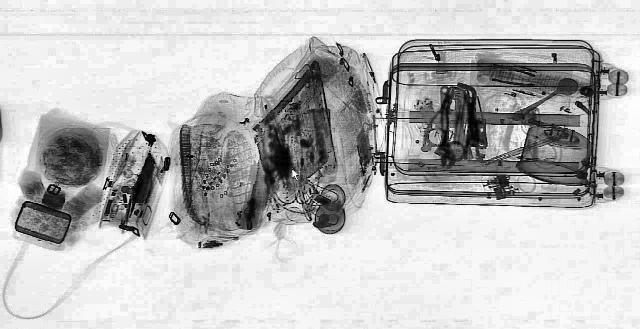Wrench: (432, 85, 458, 167)
